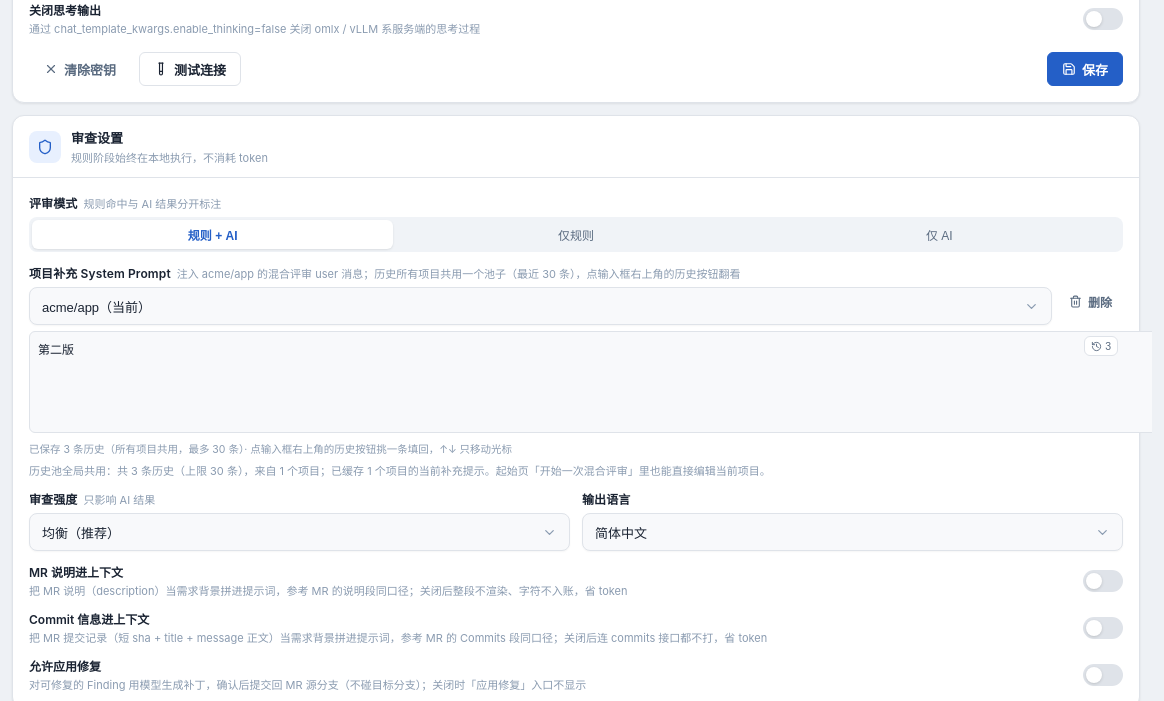
Test: 设置页项目补充 System Prompt 历史 › 历史按钮坐在输入框右上角，点开挑一条填回
(page scrolled)
Click the button named "项目补充要求历史". click: click(1101, 346)
box: [1084,336,1118,356]
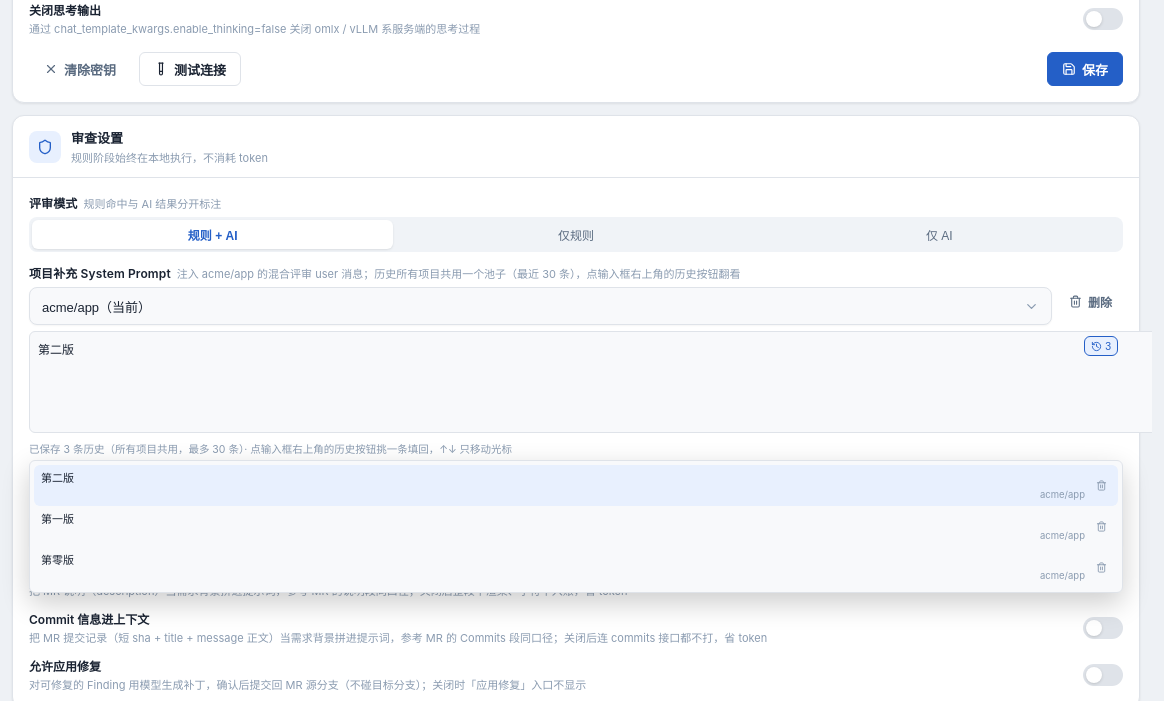
Click the option "第一版 acme/app". click: click(58, 519)
box: [34,506,1118,547]
(page scrolled)
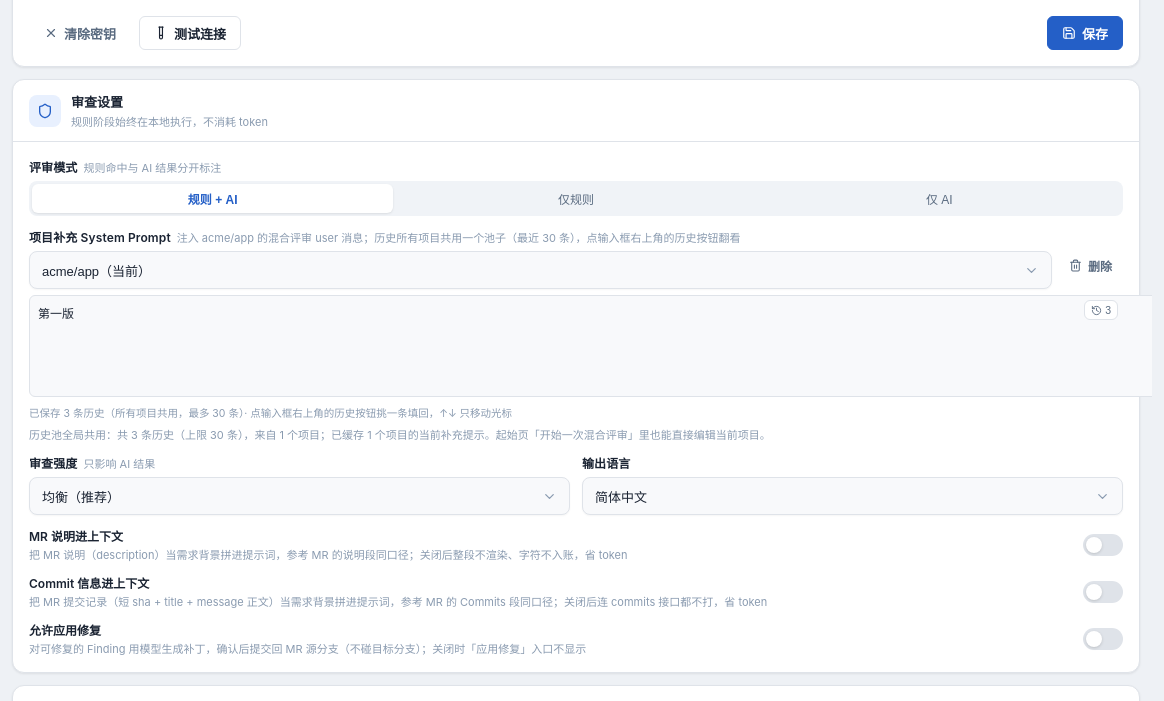
Expected: the list is gone
